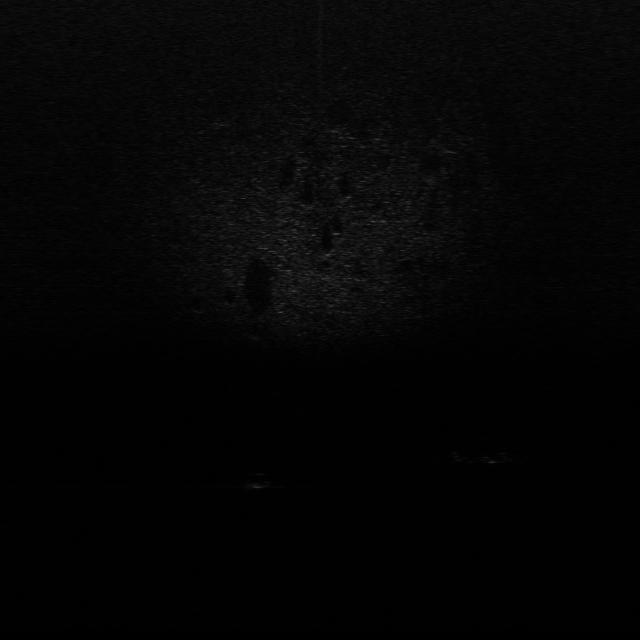ball: (244, 468, 276, 491)
human body: (450, 447, 530, 468)
